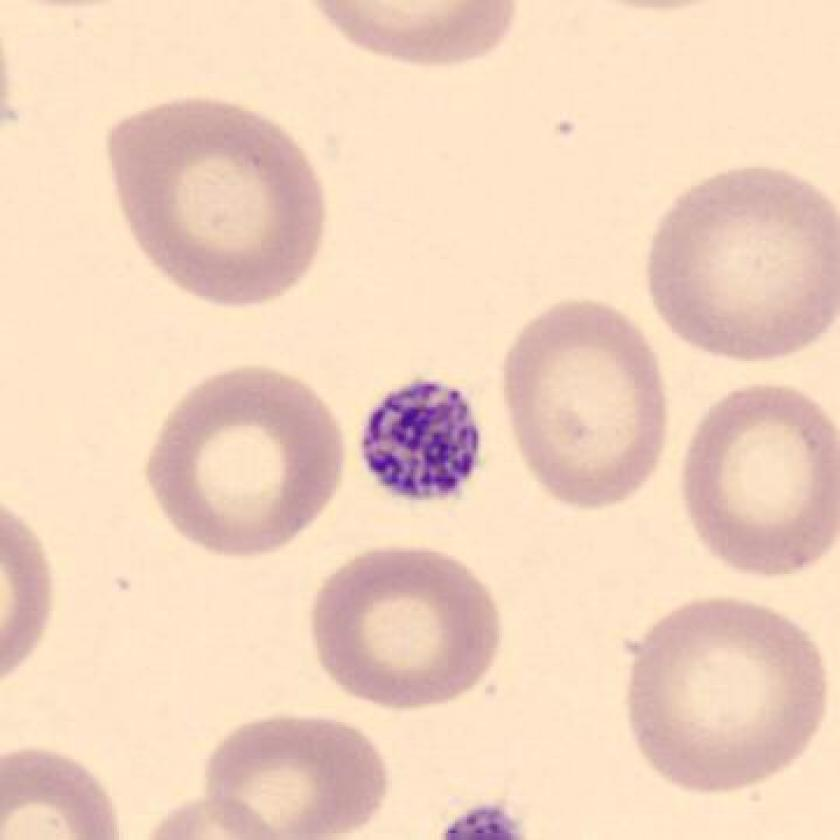platelets: (351, 365, 493, 513)
